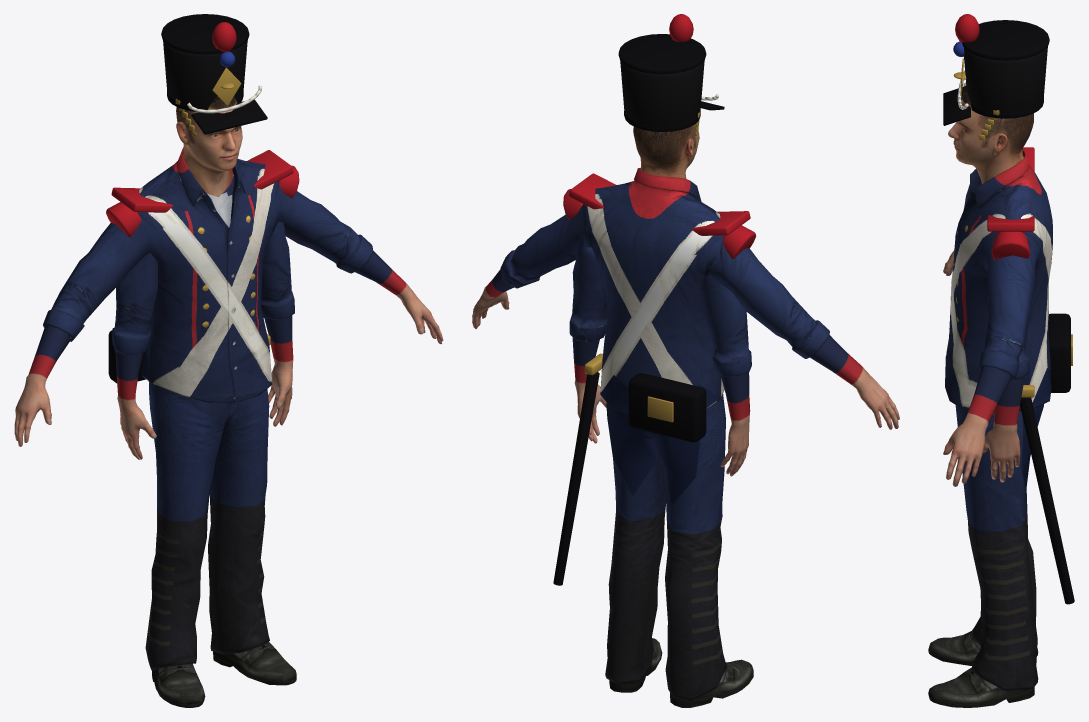
File: gunner.glb
3 views of the same model, side by side, from view 1: azimuth 30°, elevation 25°; view 2: azimuth 150°, elevation 25°; view 3: azimuth 270°, elevation 25° (orthographic).
Visible parts, largest first — view 1: rest, attention; view 2: rest, attention; view 3: rest, attention.
Part boxes in pixels (bbox=[...]): rest: bbox=[14, 14, 443, 706]; attention: bbox=[112, 96, 296, 707]; rest: bbox=[472, 14, 899, 707]; attention: bbox=[569, 186, 753, 699]; rest: bbox=[928, 14, 1074, 707]; attention: bbox=[928, 83, 1050, 707].
Bounding box in the file's own units: 1.35 × 2.02 × 0.403.
Materials: 11 (3 with a texture image).
